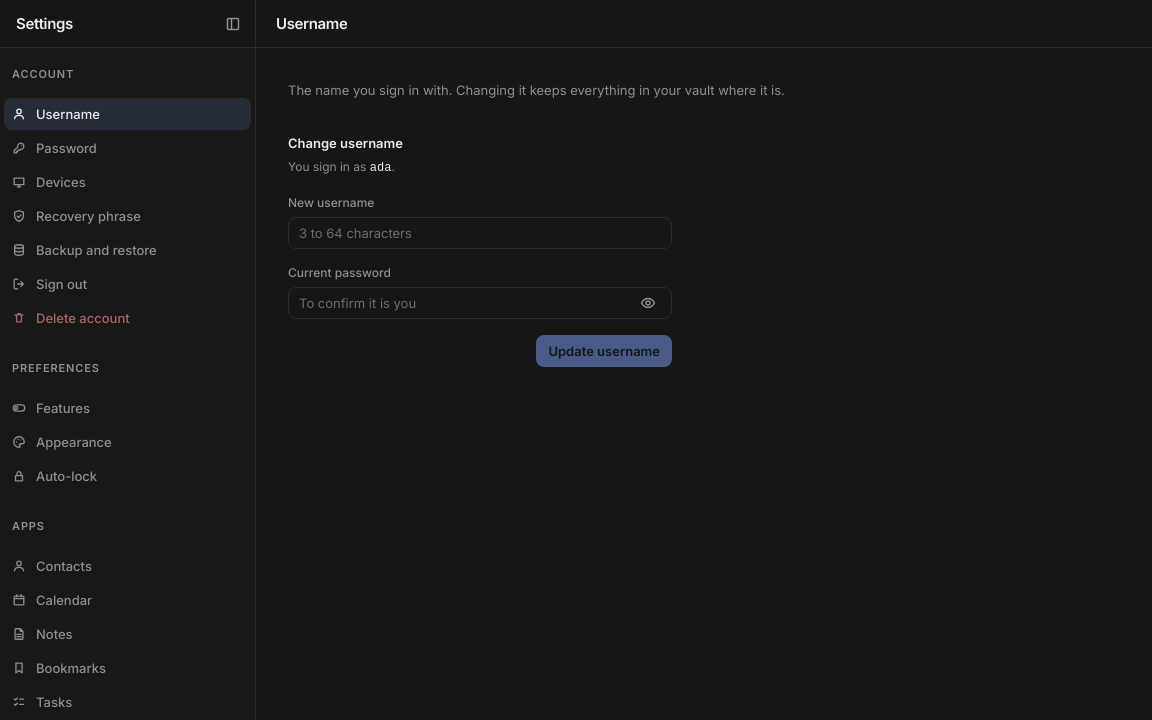
changing the password › refuses one that is long enough but common
Step 1. Click the button "Password" → (128, 148), box [4,132,251,164]
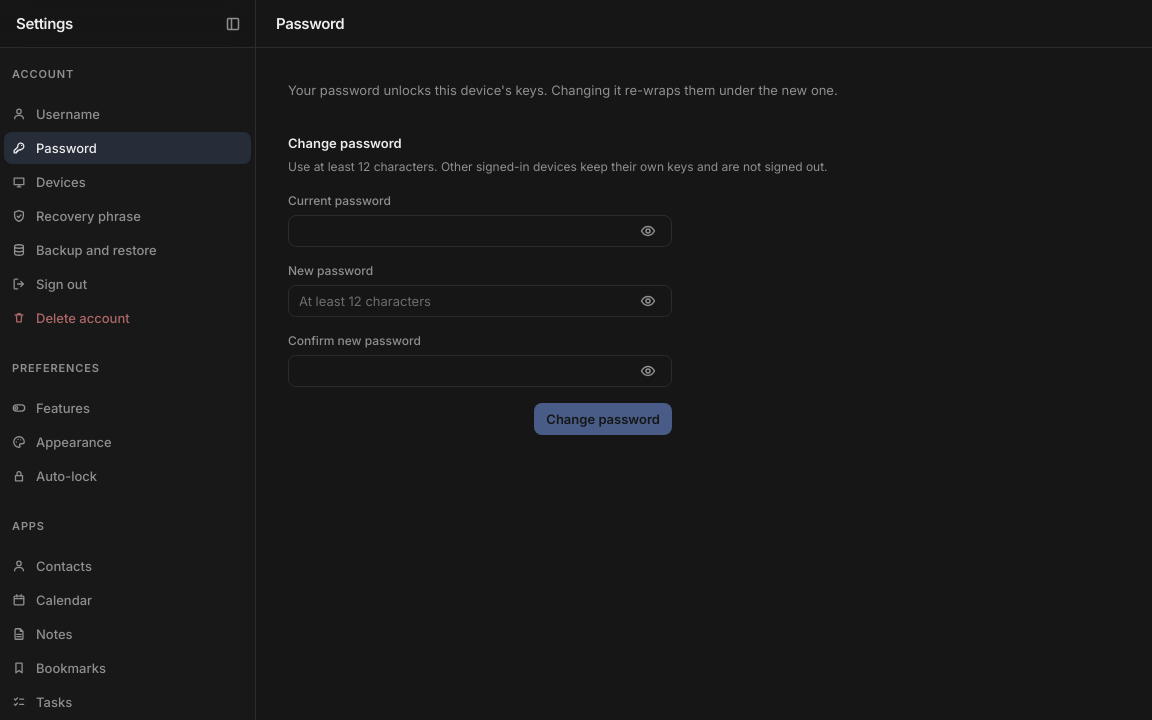
Step 2. Type "correct horse battery" into the password field labelled "Current password" → (480, 231), box [288,215,672,247]
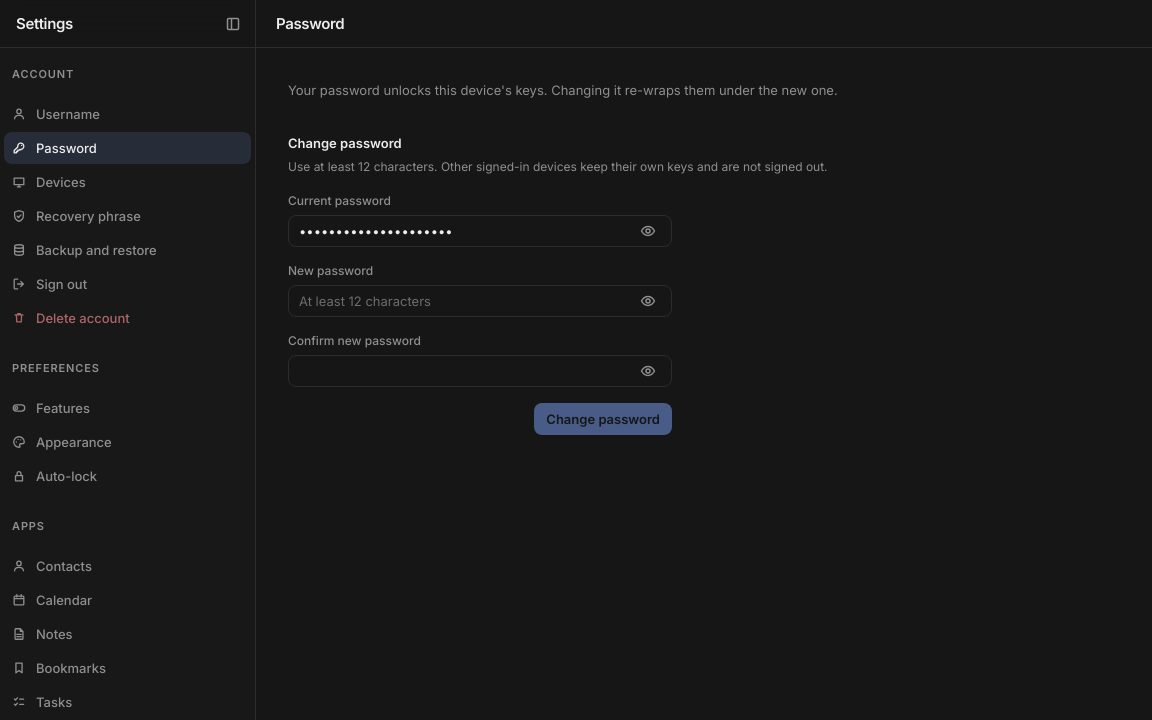
Step 3. Type "password1234" into the password field labelled "New password" → (480, 301), box [288,285,672,317]
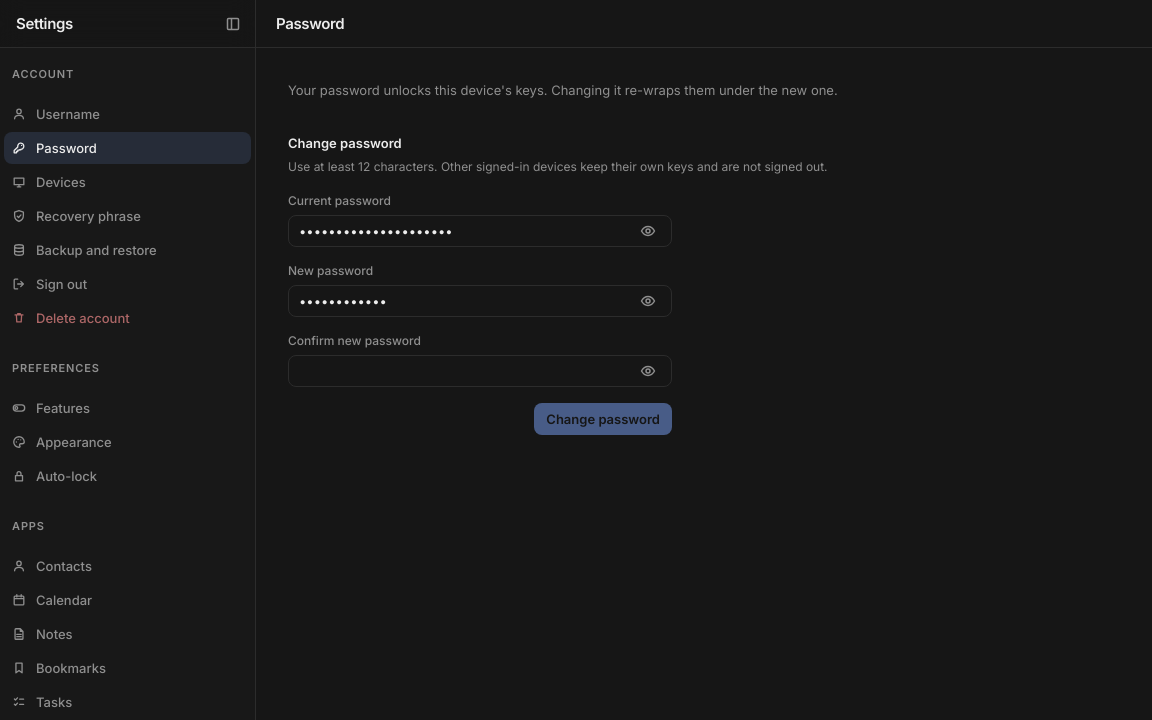
Step 4. Type "password1234" into the password field labelled "Confirm new password" → (480, 371), box [288,355,672,387]
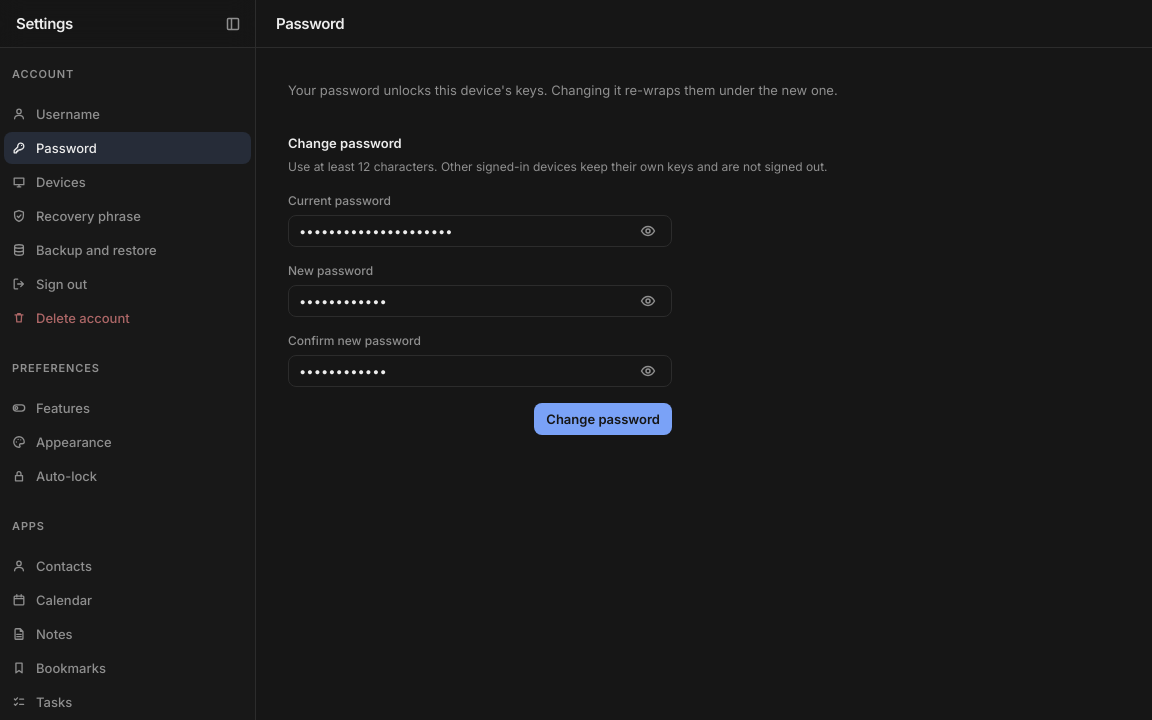
Step 5. Click the button "Change password" → (603, 419), box [534,403,672,435]
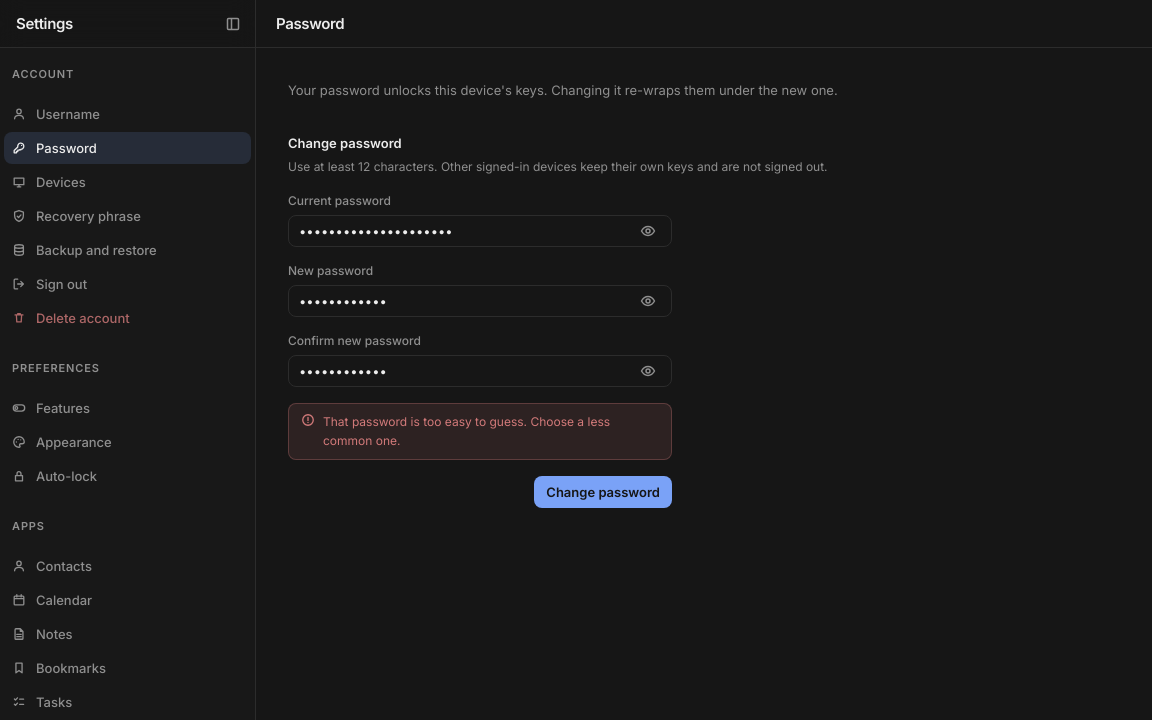
Result: the text "too easy to guess" is shown at [323,414,610,448]
